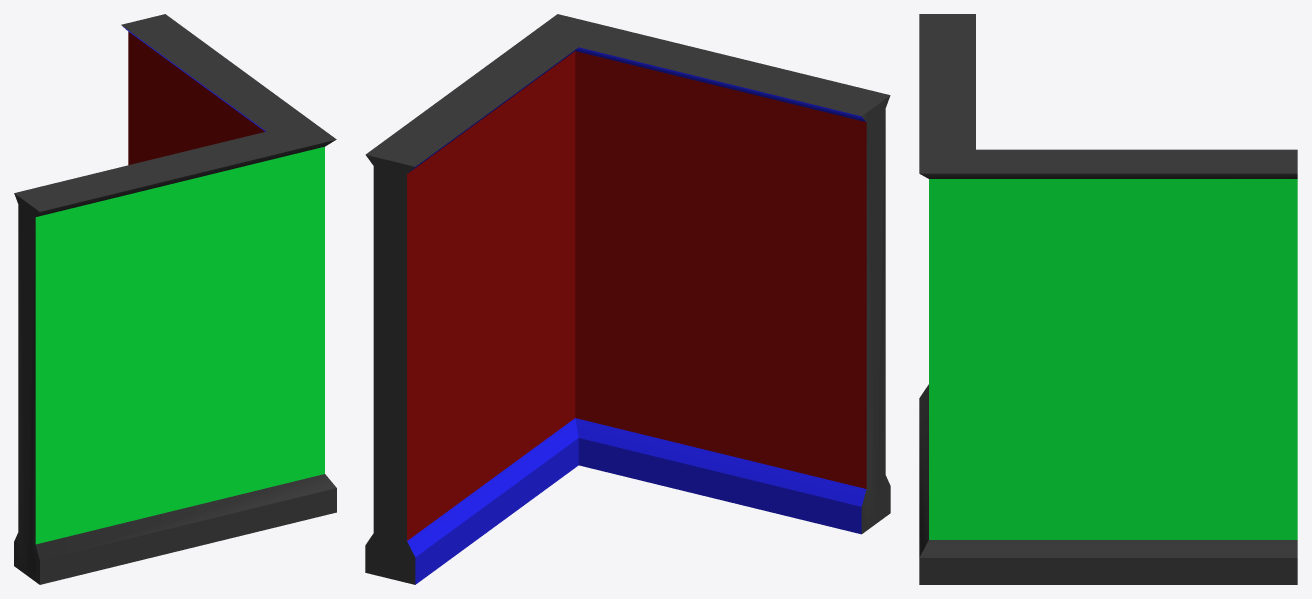
Rendered from InnerRedo.FBX.
3 views of the same model, side by side, from view 1: azimuth 30°, elevation 25°; view 2: azimuth 150°, elevation 25°; view 3: azimuth 270°, elevation 25° (orthographic). The views are drawn at different scales.
Parts seen in each view (by area): view 1: ModularWallInnerFlat; view 2: ModularWallInnerFlat; view 3: ModularWallInnerFlat.
Boxes of the visible parts, <box> form: ModularWallInnerFlat: <box>14,14,336,584</box>; ModularWallInnerFlat: <box>365,14,890,584</box>; ModularWallInnerFlat: <box>919,14,1297,584</box>.
Bounding box in the file's own units: 100 × 120 × 100.
